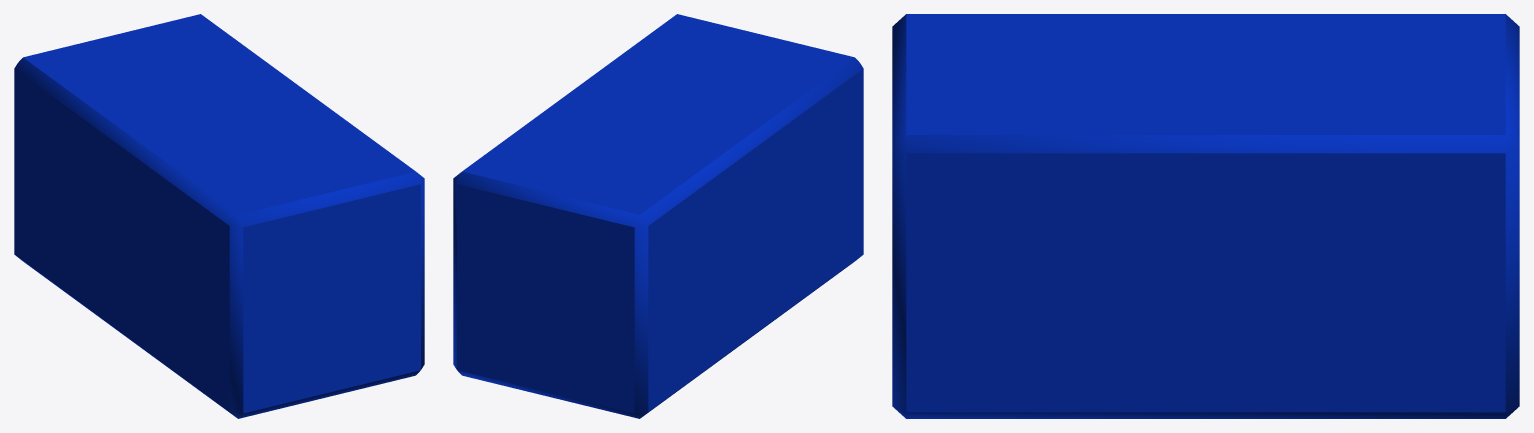
The model's file is Cube_Player.fbx.
3 renders of one model, left to right at view 1: azimuth 30°, elevation 25°; view 2: azimuth 150°, elevation 25°; view 3: azimuth 270°, elevation 25°, orthographic. The views are drawn at different scales.
Parts seen in each view (by area): view 1: Cube; view 2: Cube; view 3: Cube.
Part boxes in pixels (x1,y1,x2,y2): Cube: (14,14,424,418); Cube: (453,14,863,418); Cube: (892,14,1519,418).
Size of the model in its own units: 100 by 100 by 200.
